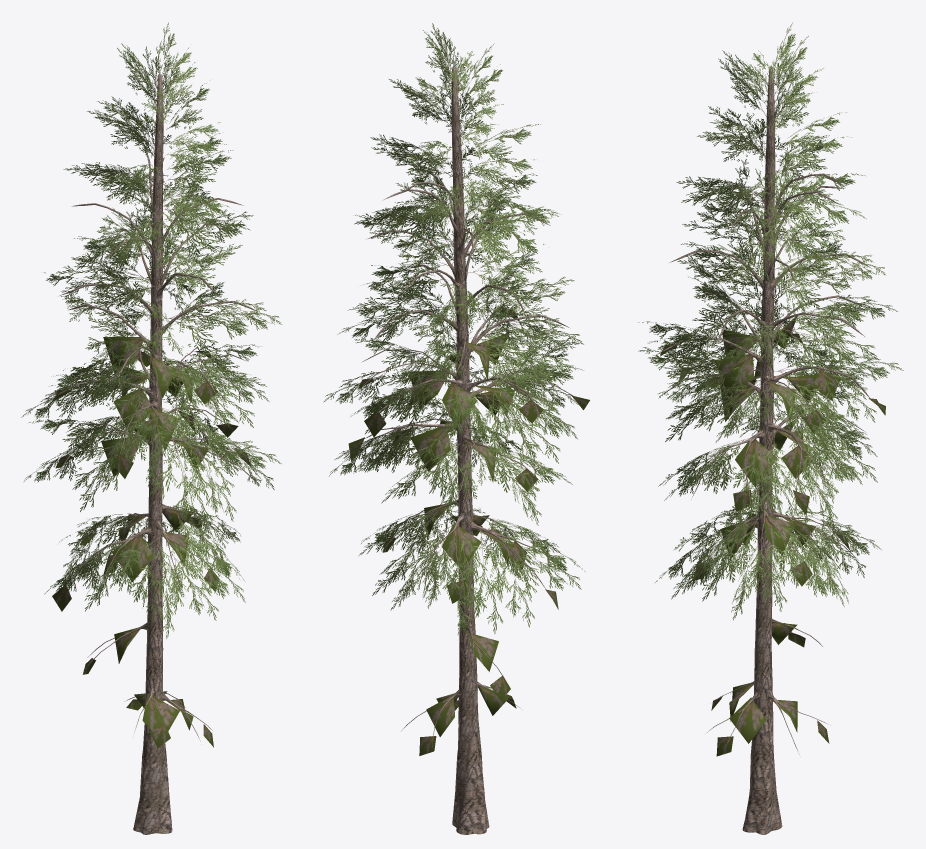
Rendered from spruce2.fbx.
The picture shows the model from 3 angles, left to right: view 1: azimuth 30°, elevation 25°; view 2: azimuth 150°, elevation 25°; view 3: azimuth 270°, elevation 25°; orthographic projection. The views are drawn at different scales.
Parts seen in each view (by area): view 1: spruce branch_1, bark08_0, branch06_2; view 2: spruce branch_1, bark08_0, branch06_2; view 3: spruce branch_1, bark08_0, branch06_2.
Part boxes in pixels (bbox=[...]): spruce branch_1: bbox=[21, 22, 281, 638]; bark08_0: bbox=[50, 74, 259, 834]; branch06_2: bbox=[52, 337, 251, 747]; spruce branch_1: bbox=[323, 23, 584, 635]; bark08_0: bbox=[354, 66, 573, 834]; branch06_2: bbox=[348, 309, 589, 755]; spruce branch_1: bbox=[638, 23, 903, 620]; bark08_0: bbox=[655, 67, 871, 834]; branch06_2: bbox=[660, 316, 885, 756].
Bounding box in the file's own units: 337 × 1062 × 339.
3 materials, 3 textured.
